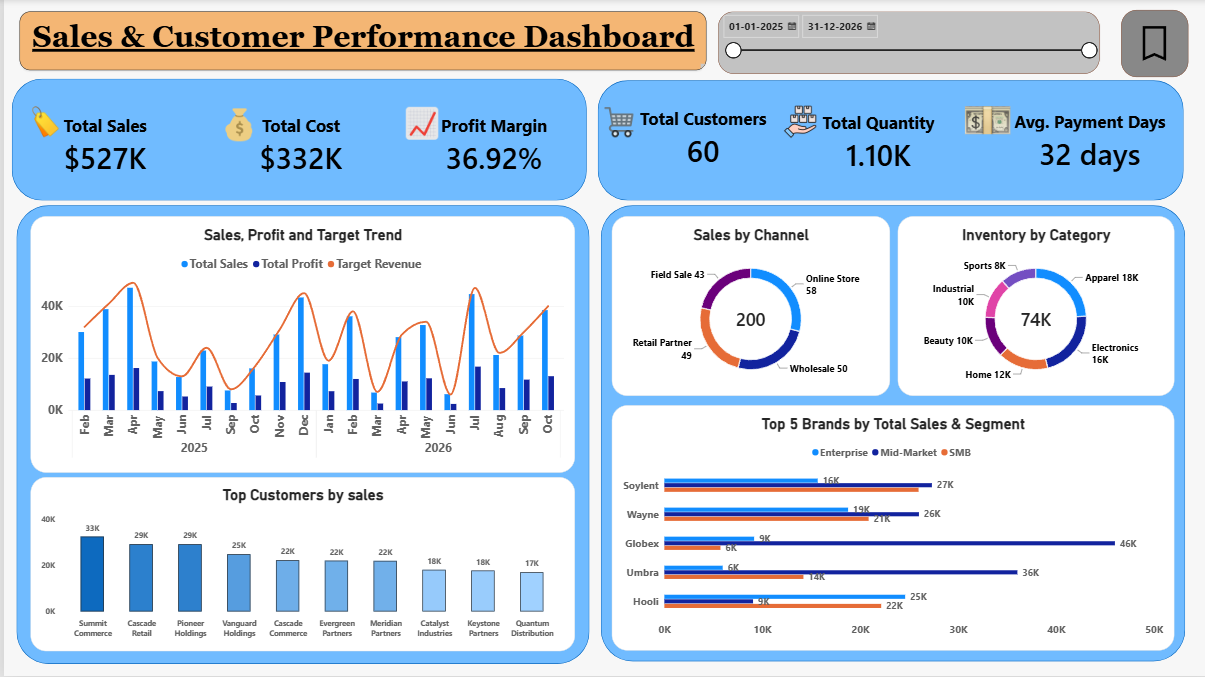

Layout of this report page (visuals, bound fields, positions):
{"tool":"powerbi","page":{"name":"Dashboard","canvas":[1920,1080],"ordinal":0},"visuals":[{"type":"group","id":"g1","title":"Group 1","box":[13.1,127.5,1867.8,931.9],"z":0},{"type":"shape","box":[13.1,127.5,915.3,194],"z":0,"group":"g1"},{"type":"shape","box":[944.8,130,932.7,191.5],"z":1000,"group":"g1"},{"type":"cardVisual","fields":{"Data":["Sum(fact_sales.line_cost)"]},"box":[340.1,146.1,264.1,175],"z":1000},{"type":"cardVisual","fields":{"Data":["_measures.total_sales"]},"box":[25.2,146.1,272,173.8],"z":2000},{"type":"shape","box":[950.8,329,930.2,726.2],"z":2000,"group":"g1"},{"type":"cardVisual","fields":{"Data":["_measures.total_customers"]},"box":[984.9,134.3,256.2,176.6],"z":3000},{"type":"shape","box":[19.6,329.3,912,730],"z":3000,"group":"g1"},{"type":"cardVisual","fields":{"Data":["_measures.profit_margin_%"]},"box":[642.3,146.1,277.3,175],"z":4000},{"type":"lineClusteredColumnComboChart","title":"Sales, Profit and Target Trend","fields":{"Category":["dim_date.year","dim_date.month"],"Y":["_measures.total_sales","_measures.total_profit"],"Y2":["Sum(fact_target.target_revenue)"]},"box":[42.8,345.1,866.5,408.1],"z":5000},{"type":"columnChart","title":"Top Customers by sales","fields":{"Category":["dim_customers.customer_name"],"Y":["_measures.total_sales"]},"box":[42.8,760.7,866.5,277.1],"z":6000},{"type":"donutChart","title":"Sales by Channel","fields":{"Category":["dim_orders_flags.channel"],"Y":["CountNonNull(fact_sales.flag_key)"]},"box":[967.5,345.7,442.7,286],"z":7000},{"type":"clusteredBarChart","title":"Top 5 Brands by Total Sales & Segment","fields":{"Category":["dim_products.brand"],"Y":["_measures.total_sales"],"Series":["dim_customers.segment"]},"box":[967.5,646.7,895.4,390.5],"z":8000},{"type":"cardVisual","fields":{"Data":["Sum(fact_sales.quantity)"]},"box":[1259.5,141.1,267.4,175],"z":9000},{"type":"cardVisual","fields":{"Data":["_measures.avg_order_to _pay"]},"box":[1571.8,138.5,313.6,175],"z":10000},{"type":"textbox","title":"Sales & Customer Performance Dashboard","box":[25.2,20.2,1093.2,93.2],"z":11000},{"type":"donutChart","title":"Inventory by Category","fields":{"Category":["dim_products.category"],"Y":["Sum(fact_inventory.unit)"]},"box":[1422.6,345.7,440.2,286],"z":12000},{"type":"group","id":"g2","title":"Group 2","box":[29.8,166.6,1571.9,59.7],"z":12500},{"type":"actionButton","box":[1778.4,17.6,106.7,106.7],"z":18000},{"type":"slicer","fields":{"Values":["dim_date.Date"]},"box":[1135.6,19.8,607.4,99],"z":20000},{"type":"image","box":[29.8,169.1,72.1,52.2],"z":21000,"group":"g2"},{"type":"image","box":[1529.5,166.6,72.1,52.2],"z":22000,"group":"g2"},{"type":"image","box":[338.2,174.1,72.1,52.2],"z":23000,"group":"g2"},{"type":"image","box":[629.2,170.4,72.1,52.2],"z":24000,"group":"g2"},{"type":"image","box":[942.6,169.1,72.1,52.2],"z":25000,"group":"g2"},{"type":"image","box":[1231.1,169.1,72.1,52.2],"z":26000,"group":"g2"}]}

Visuals, with their boxes in screenshot pixels (x1, y1, x2, y2), scaled from the page's 1920x1080 canvas onto the 1205x677 screenshot:
"Group 1" group: [8, 80, 1180, 664]
shape: [8, 80, 583, 202]
shape: [593, 81, 1178, 202]
cardVisual - Sum(fact_sales.line_cost): [213, 92, 379, 201]
cardVisual - _measures.total_sales: [16, 92, 187, 201]
shape: [597, 206, 1181, 661]
cardVisual - _measures.total_customers: [618, 84, 779, 195]
shape: [12, 206, 585, 664]
cardVisual - _measures.profit_margin_%: [403, 92, 577, 201]
"Sales, Profit and Target Trend" lineClusteredColumnComboChart: [27, 216, 571, 472]
"Top Customers by sales" columnChart: [27, 477, 571, 651]
"Sales by Channel" donutChart: [607, 217, 885, 396]
"Top 5 Brands by Total Sales & Segment" clusteredBarChart: [607, 405, 1169, 650]
cardVisual - Sum(fact_sales.quantity): [790, 88, 958, 198]
cardVisual - _measures.avg_order_to _pay: [986, 87, 1183, 197]
"Sales & Customer Performance Dashboard" textbox: [16, 13, 702, 71]
"Inventory by Category" donutChart: [893, 217, 1169, 396]
"Group 2" group: [19, 104, 1005, 142]
actionButton: [1116, 11, 1183, 78]
slicer - dim_date.Date: [713, 12, 1094, 74]
image: [19, 106, 64, 139]
image: [960, 104, 1005, 137]
image: [212, 109, 258, 142]
image: [395, 107, 440, 140]
image: [592, 106, 637, 139]
image: [773, 106, 818, 139]
